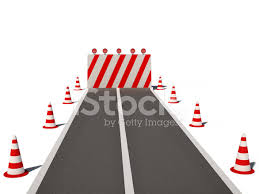cones: (227, 133, 255, 176), (1, 137, 29, 179), (37, 102, 60, 132), (184, 102, 206, 129), (166, 84, 180, 105), (59, 88, 73, 105), (152, 76, 166, 92), (73, 77, 83, 90)
